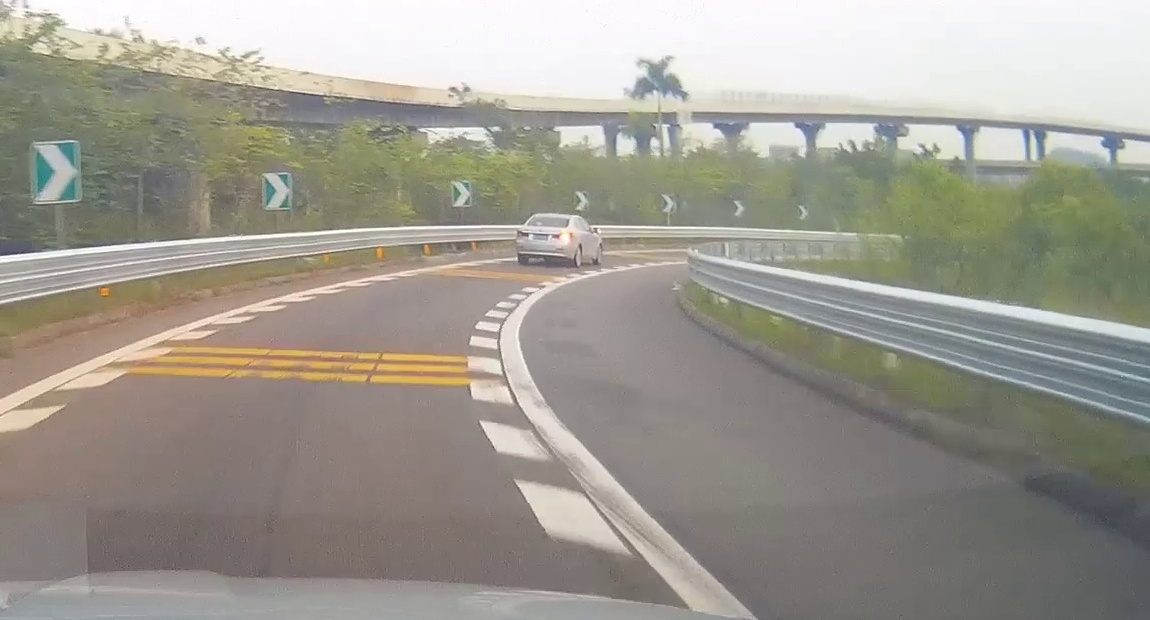L_light: (516, 231, 529, 237)
R_light: (552, 231, 572, 240)
T_light: (545, 217, 555, 218)
day-right: (516, 213, 576, 264)
